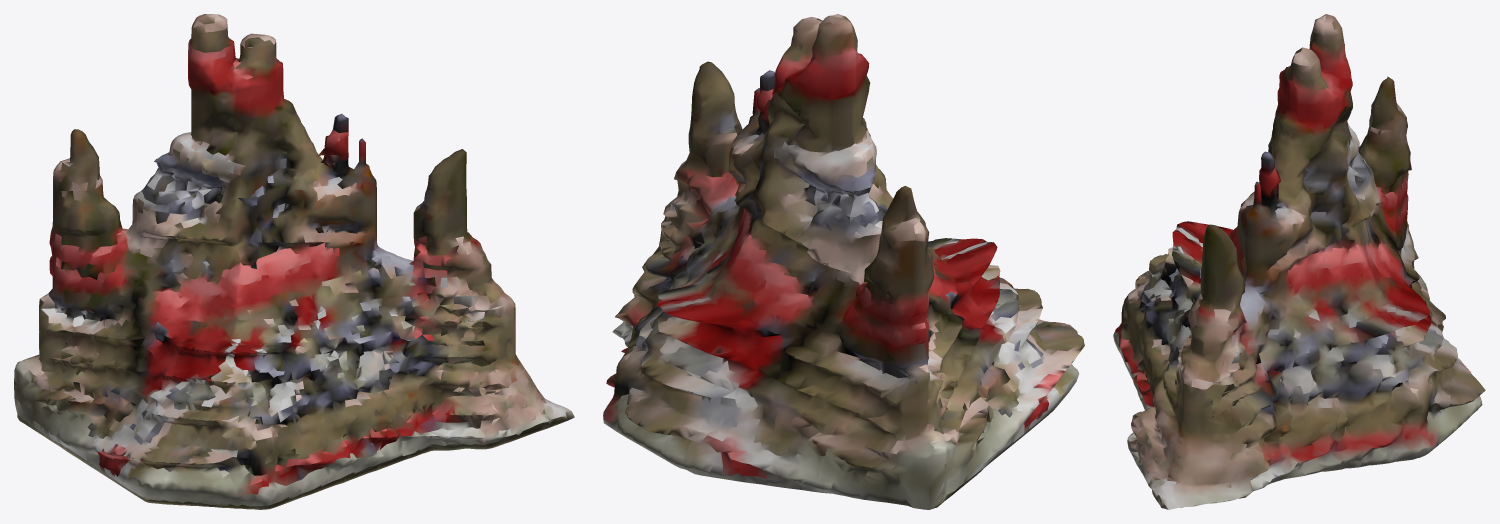
The model's file is soviet_industrial_plant.glb.
3 renders of one model, left to right at view 1: azimuth 30°, elevation 25°; view 2: azimuth 150°, elevation 25°; view 3: azimuth 270°, elevation 25°, orthographic. The views are drawn at different scales.
Parts seen in each view (by area): view 1: soviet_industrial_plant; view 2: soviet_industrial_plant; view 3: soviet_industrial_plant.
Part boxes in pixels (left/top/right/bottom): soviet_industrial_plant: left=14, top=14, right=574, bottom=509; soviet_industrial_plant: left=603, top=14, right=1084, bottom=509; soviet_industrial_plant: left=1113, top=14, right=1485, bottom=509.
Size of what is drawn, in the model's own units: 1.75 by 1.58 by 1.44.
